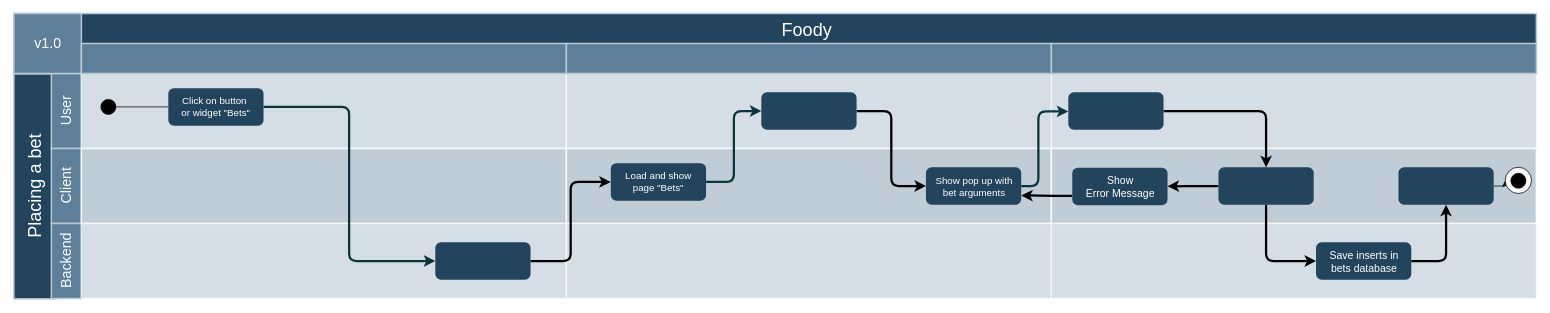
The diagram is 1550 pixels wide and 313 high, and some of its shapes have lost their labels. The centre of each missing label's shape, as x and y in pixels:
Click on button "Place bet": pixel 808 110
Fetch data from database: pixel 482 260
Insert bet text and possible answers: pixel 1115 110
Show "all bets" page: pixel 1445 185
Validate entry: pixel 1265 185
